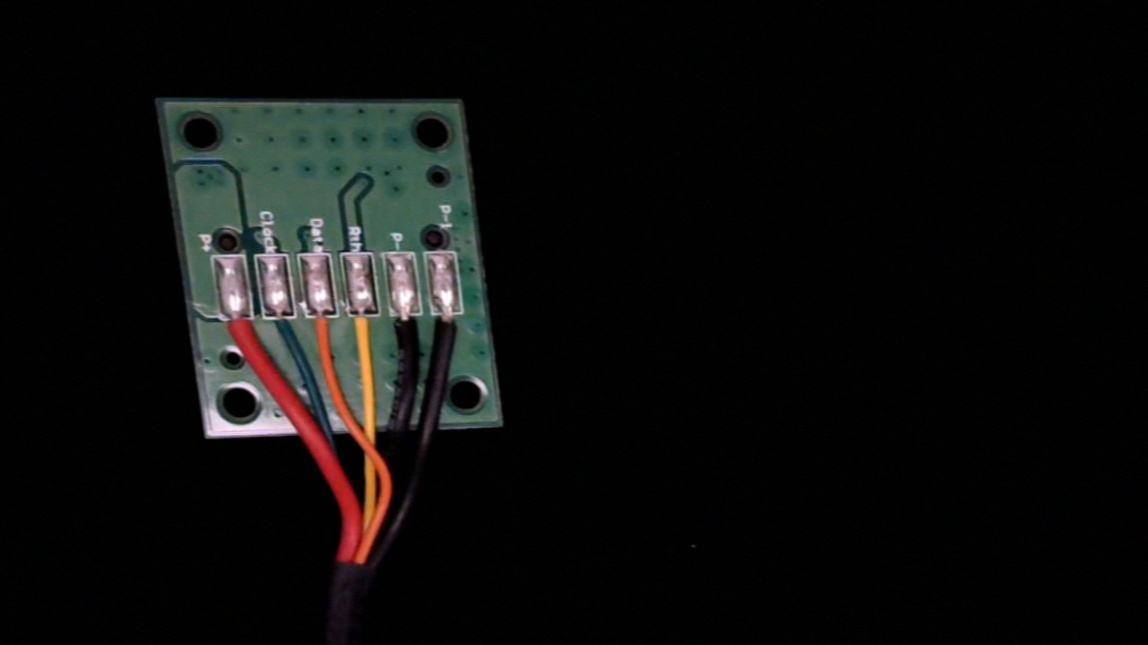Black: (387, 297, 431, 370)
Black1: (432, 296, 474, 362)
Green: (261, 298, 305, 368)
Orange: (304, 298, 346, 370)
Red: (217, 300, 261, 370)
Yellow: (346, 298, 390, 372)
